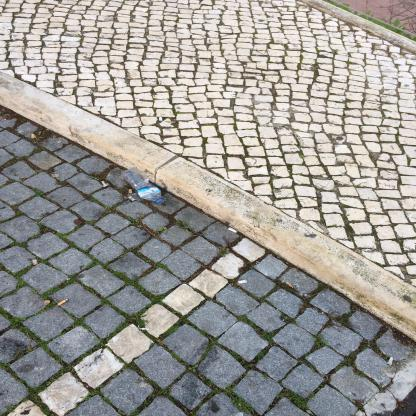plastik: (122, 168, 164, 204)
